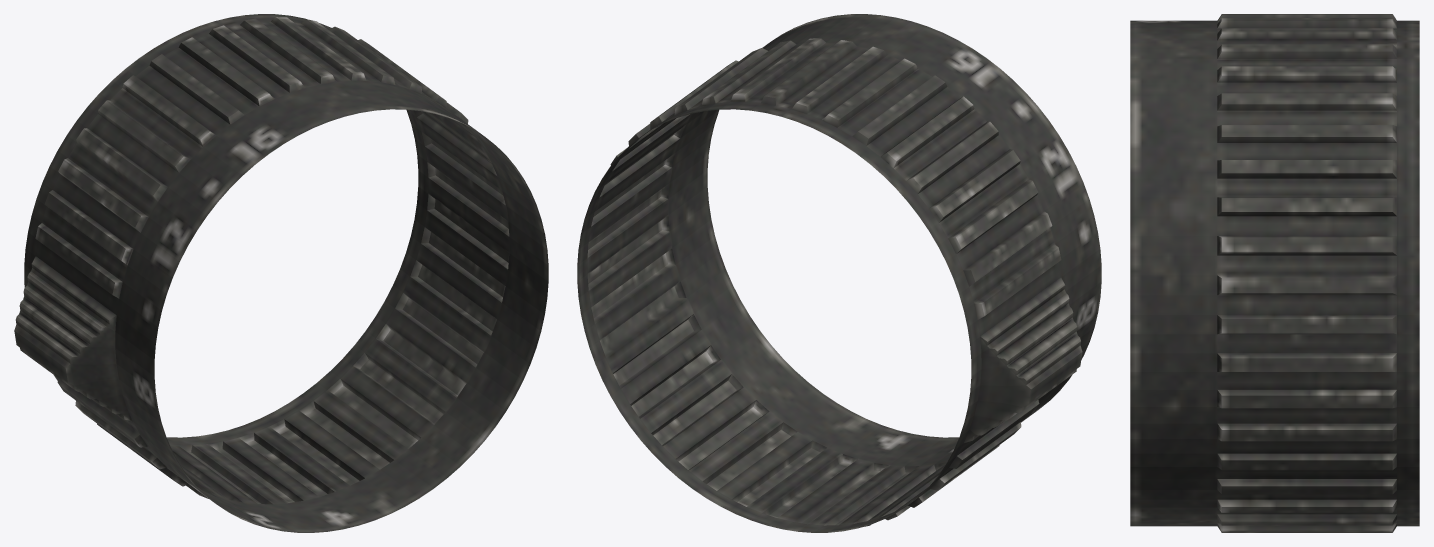
3 renders of one model, left to right at view 1: azimuth 30°, elevation 25°; view 2: azimuth 150°, elevation 25°; view 3: azimuth 270°, elevation 25°, orthographic. The views are drawn at different scales.
Visible parts, largest first — view 1: TW_56ea70acd2720b844b8b4594_PZ_Import; view 2: TW_56ea70acd2720b844b8b4594_PZ_Import; view 3: TW_56ea70acd2720b844b8b4594_PZ_Import.
Boxes of the visible parts, bbox=[...] form: TW_56ea70acd2720b844b8b4594_PZ_Import: bbox=[14, 14, 548, 532]; TW_56ea70acd2720b844b8b4594_PZ_Import: bbox=[577, 14, 1101, 532]; TW_56ea70acd2720b844b8b4594_PZ_Import: bbox=[1130, 14, 1419, 532].
Size of the model in its own units: 0.0281 by 0.0146 by 0.0261.
1 material, 1 textured.
